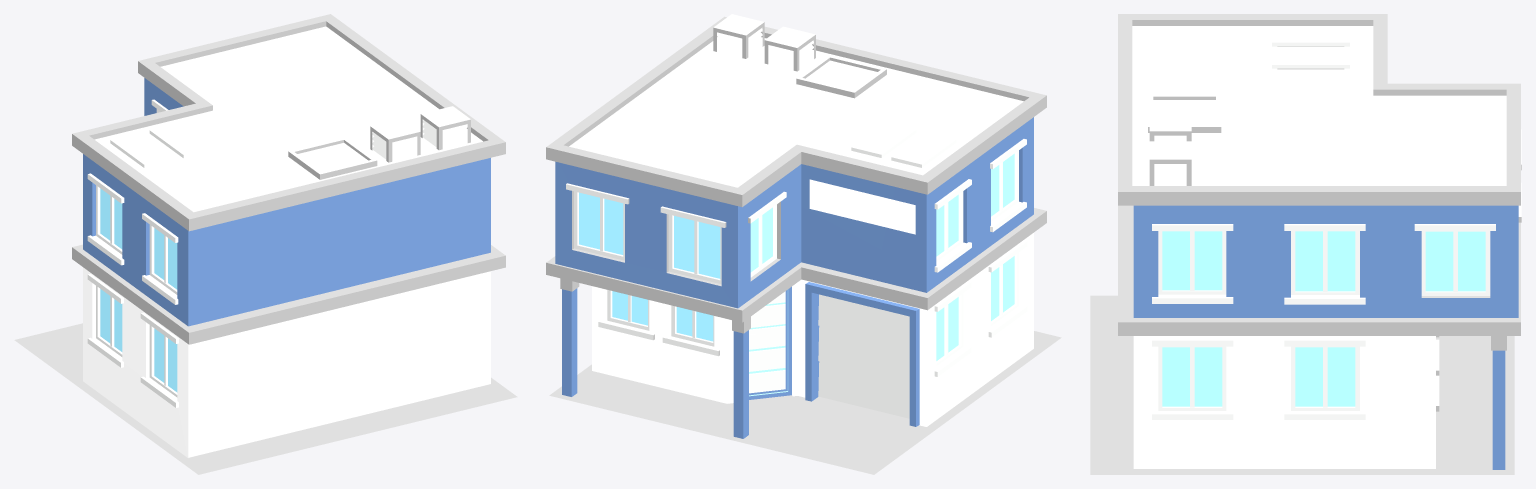
The picture shows the model from 3 angles, left to right: view 1: azimuth 30°, elevation 25°; view 2: azimuth 150°, elevation 25°; view 3: azimuth 270°, elevation 25°; orthographic projection. The views are drawn at different scales.
Visible parts, largest first — view 1: purpose.007, tile_for_home_1x1.006 (1); view 2: purpose.007, tile_for_home_1x1.006 (1); view 3: purpose.007, tile_for_home_1x1.006 (1).
Part boxes in pixels (left/top/right/bottom): purpose.007: left=72, top=14, right=505, bottom=457; tile_for_home_1x1.006 (1): left=14, top=323, right=517, bottom=474; purpose.007: left=546, top=14, right=1046, bottom=438; tile_for_home_1x1.006 (1): left=549, top=331, right=1061, bottom=474; purpose.007: left=1118, top=14, right=1521, bottom=469; tile_for_home_1x1.006 (1): left=1090, top=295, right=1514, bottom=474.
Bounding box in the file's own units: 8 × 6.35 × 8.13.
1 material, 1 textured.
